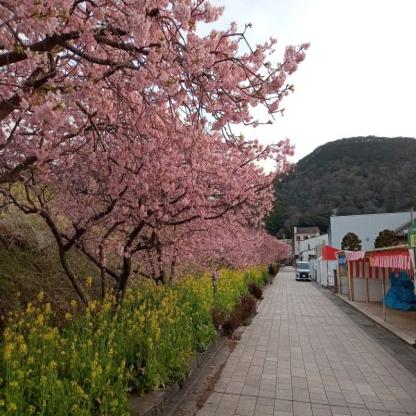KawazuSakura: (0, 0, 302, 280)
